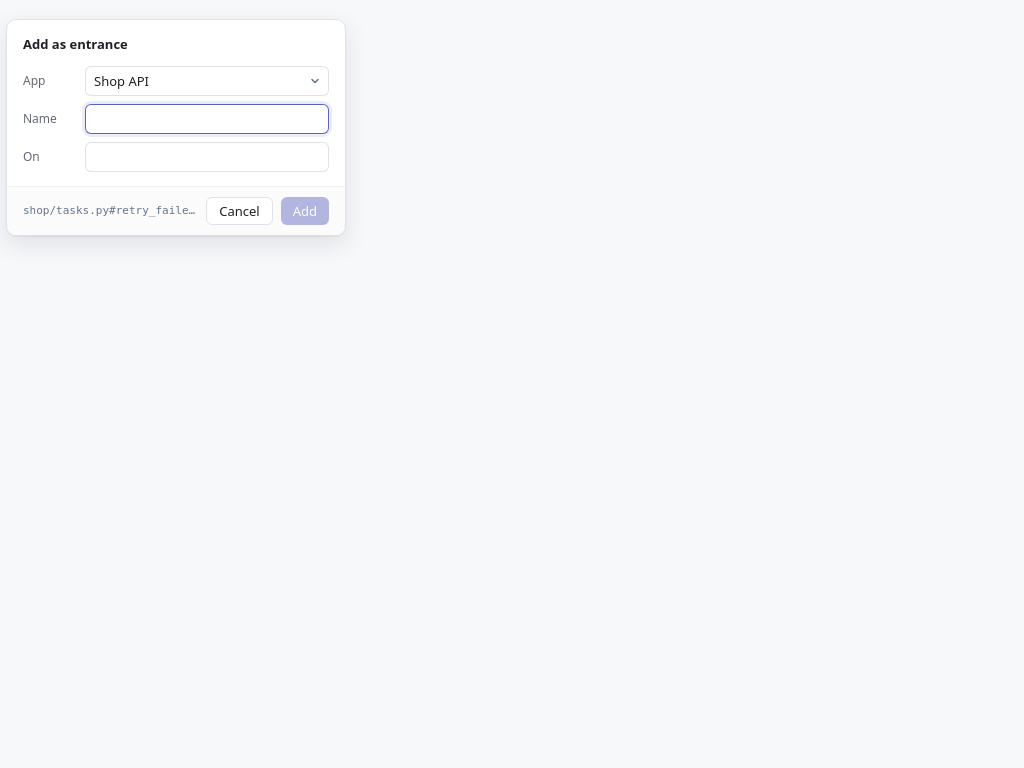
Test: Add as entrance › shows the engine's refusal of a name the app has, stays open, and clears it once the name changes
Type "retry!" into the field labelled "Name".
click(207, 119); type("retry!")  # box [85,104,329,134]
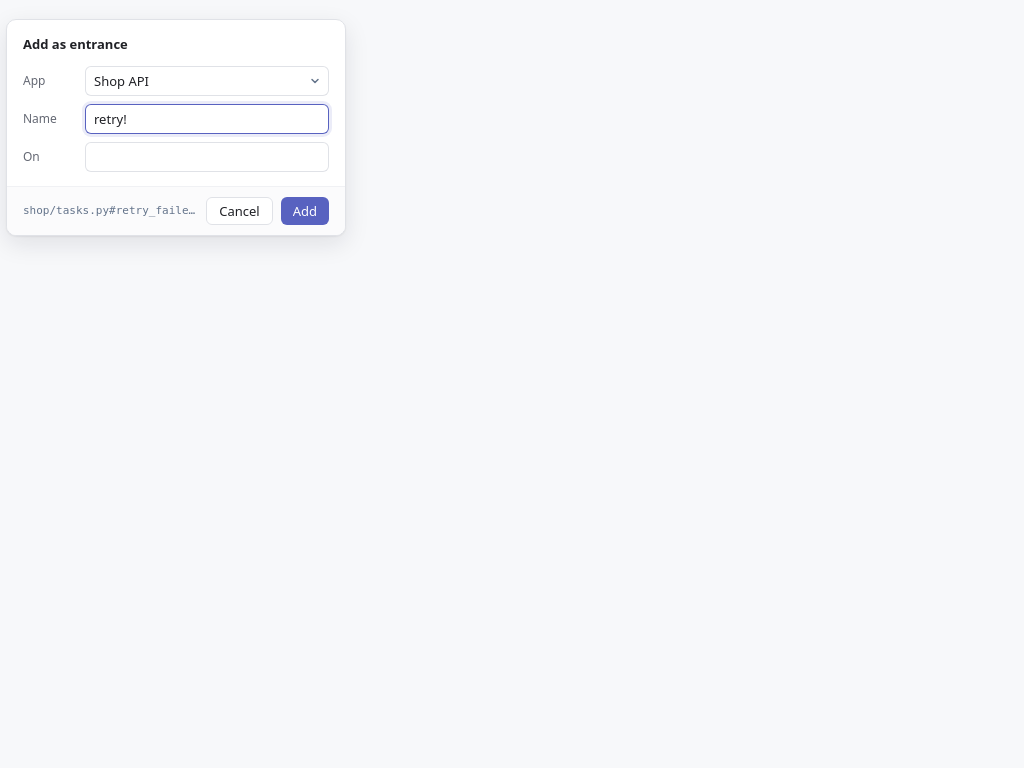
Click the button "Add".
click(305, 211)  # box [281,197,329,225]
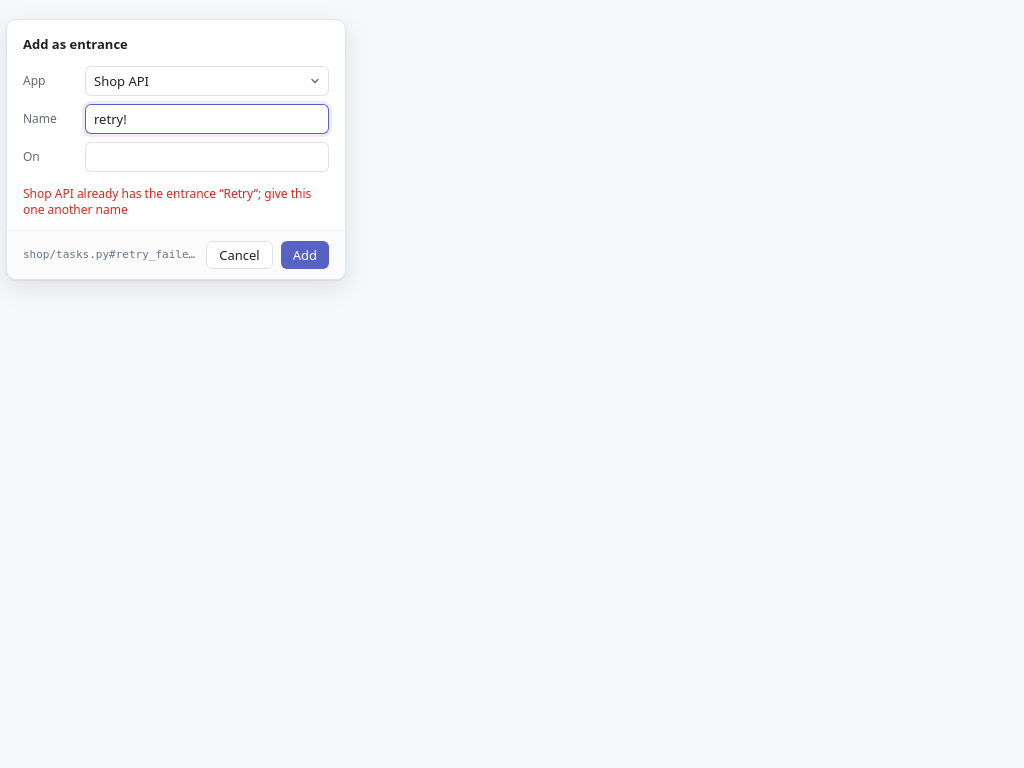
Now the text "Shop API already has the entrance “Retry”; give this one another name" is shown, box [7,186,345,230]
Replace the text in the field labelled "Name" with "Retry charges" at (207, 119), box [85,104,329,134]
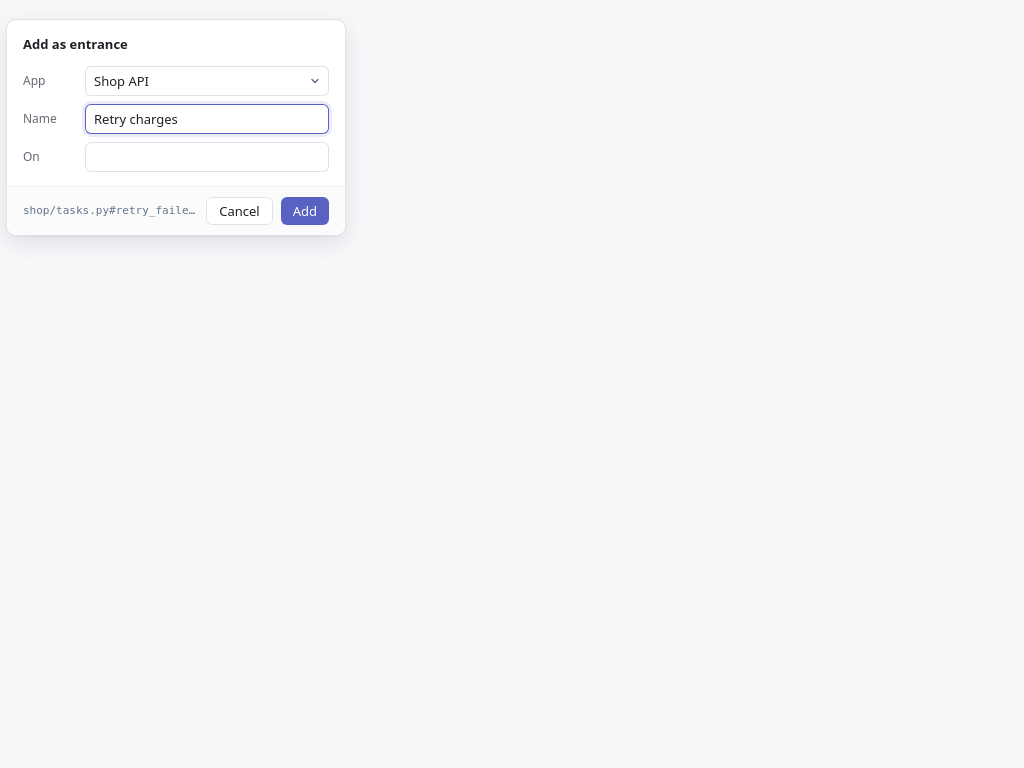
Now the text "Shop API already has the entrance “Retry”; give this one another name" is gone
